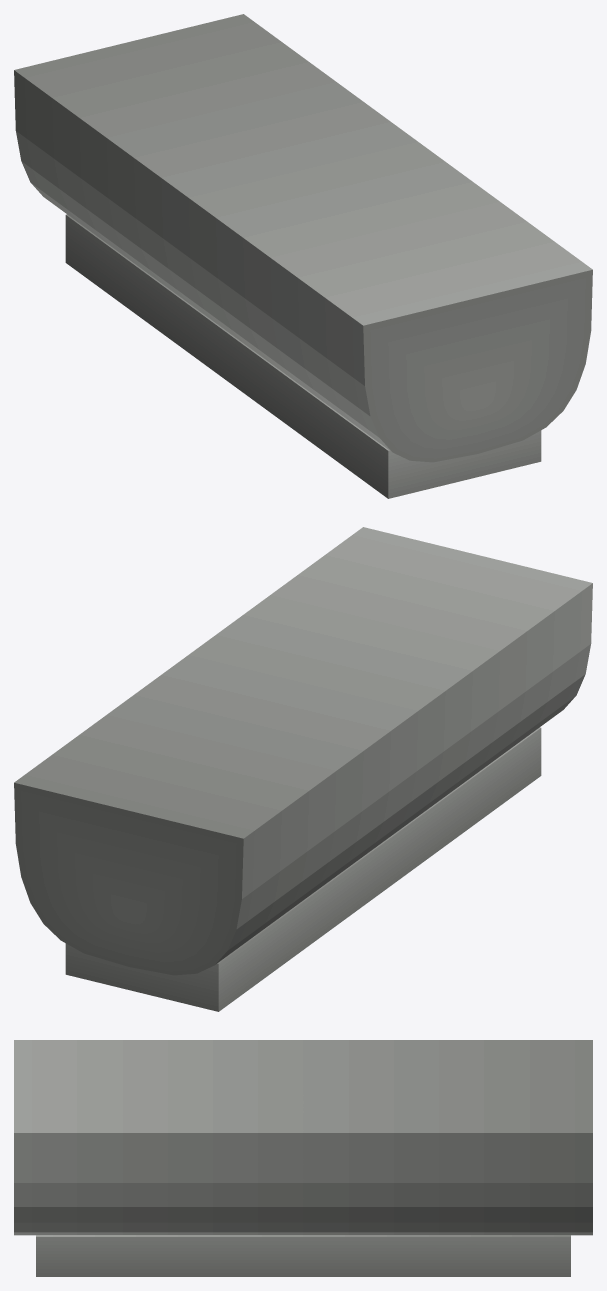
Rendered from streetlight_creestylushalf.obj.
The picture shows the model from 3 angles, top to bottom: view 1: azimuth 30°, elevation 25°; view 2: azimuth 150°, elevation 25°; view 3: azimuth 270°, elevation 25°; orthographic projection. The views are drawn at different scales.
Visible parts, largest first — view 1: fixture; view 2: fixture; view 3: fixture.
Part boxes in pixels (x1=…): fixture: x1=14, y1=14, x2=592, y2=498; fixture: x1=14, y1=527, x2=592, y2=1011; fixture: x1=14, y1=1040, x2=592, y2=1276.
Size of the model in its own units: 0.375 by 0.3 by 0.9875.
